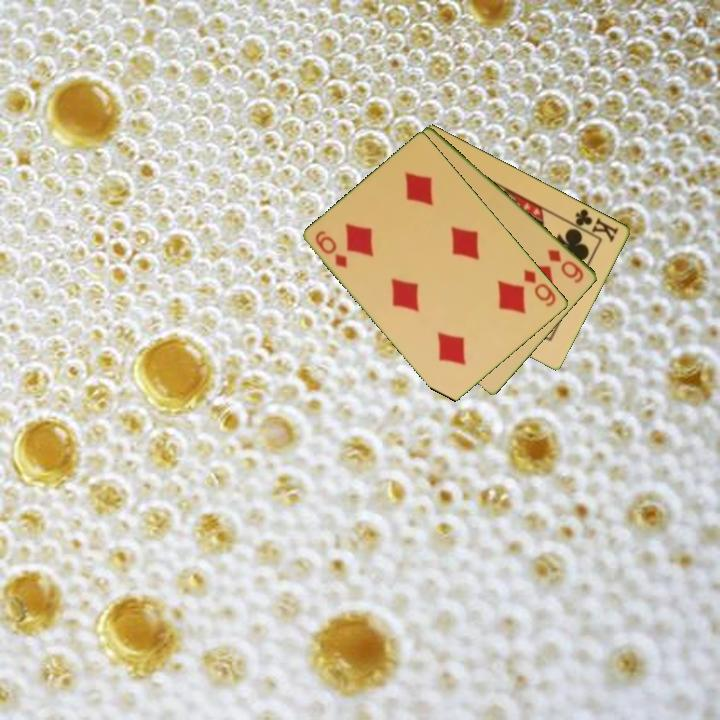6d: (544, 245, 587, 286), (520, 266, 559, 310), (312, 227, 351, 271)
Kc: (566, 205, 622, 245)
